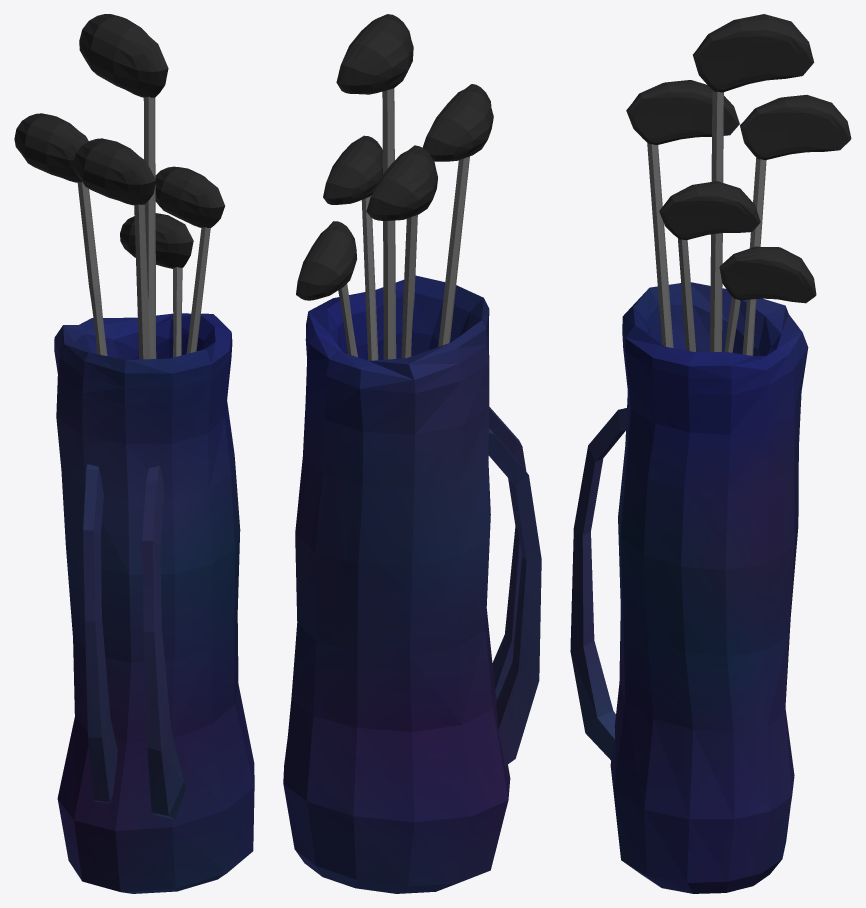
The model's file is mazzeDaGolf.obj.
3 renders of one model, left to right at view 1: azimuth 30°, elevation 25°; view 2: azimuth 150°, elevation 25°; view 3: azimuth 270°, elevation 25°, orthographic. The views are drawn at different scales.
Visible parts, largest first — view 1: Group32067, Group32277, Group32262, Group32052, Group32157, Group32112, Group32202, Group32022, Group32247, Group32082, Group32127, Group32172 (+1 smaller); view 2: Group32067, Group32262, Group32052, Group32157, Group32112, Group32247, Group32202, Group32022, Group32277, Group32127, Group32172, Group32082 (+1 smaller); view 3: Group32067, Group32277, Group32052, Group32112, Group32157, Group32202, Group32247, Group32022, Group32127, Group32082, Group32172.
Part boxes in pixels (bbox=[...]): Group32067: bbox=[54, 313, 254, 893]; Group32277: bbox=[142, 465, 186, 819]; Group32262: bbox=[83, 464, 117, 802]; Group32052: bbox=[79, 14, 168, 97]; Group32157: bbox=[73, 138, 155, 205]; Group32112: bbox=[14, 113, 88, 182]; Group32202: bbox=[155, 166, 224, 227]; Group32022: bbox=[143, 96, 156, 358]; Group32247: bbox=[120, 213, 193, 268]; Group32082: bbox=[77, 181, 107, 355]; Group32127: bbox=[134, 204, 150, 359]; Group32172: bbox=[186, 227, 210, 353]; Group32067: bbox=[283, 275, 510, 893]; Group32262: bbox=[488, 428, 541, 766]; Group32052: bbox=[336, 14, 413, 94]; Group32157: bbox=[422, 84, 493, 161]; Group32112: bbox=[366, 145, 437, 220]; Group32247: bbox=[296, 221, 357, 300]; Group32202: bbox=[323, 135, 382, 204]; Group32022: bbox=[382, 88, 396, 359]; Group32277: bbox=[489, 407, 526, 699]; Group32127: bbox=[438, 156, 469, 346]; Group32172: bbox=[361, 196, 378, 360]; Group32082: bbox=[401, 215, 417, 358]; Group32067: bbox=[610, 282, 808, 893]; Group32277: bbox=[570, 408, 626, 760]; Group32052: bbox=[693, 14, 814, 92]; Group32112: bbox=[740, 95, 851, 159]; Group32157: bbox=[626, 80, 739, 144]; Group32202: bbox=[659, 181, 760, 240]; Group32247: bbox=[719, 246, 816, 303]; Group32022: bbox=[710, 90, 723, 351]; Group32127: bbox=[647, 143, 673, 347]; Group32082: bbox=[742, 158, 766, 355]; Group32172: bbox=[678, 238, 695, 351].
Bounding box in the file's own units: 1.82 × 7.3 × 2.21.
1 material, 1 textured.
